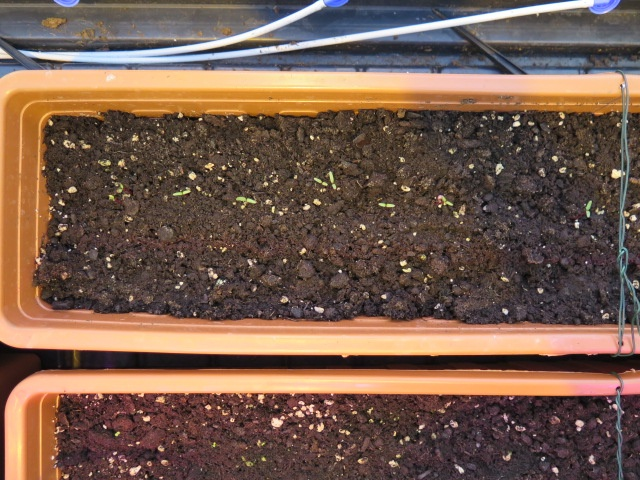crop: (327, 167, 343, 196), (579, 196, 597, 220), (229, 193, 260, 205), (433, 193, 456, 209), (373, 199, 400, 211), (167, 187, 199, 197), (313, 179, 328, 187)
